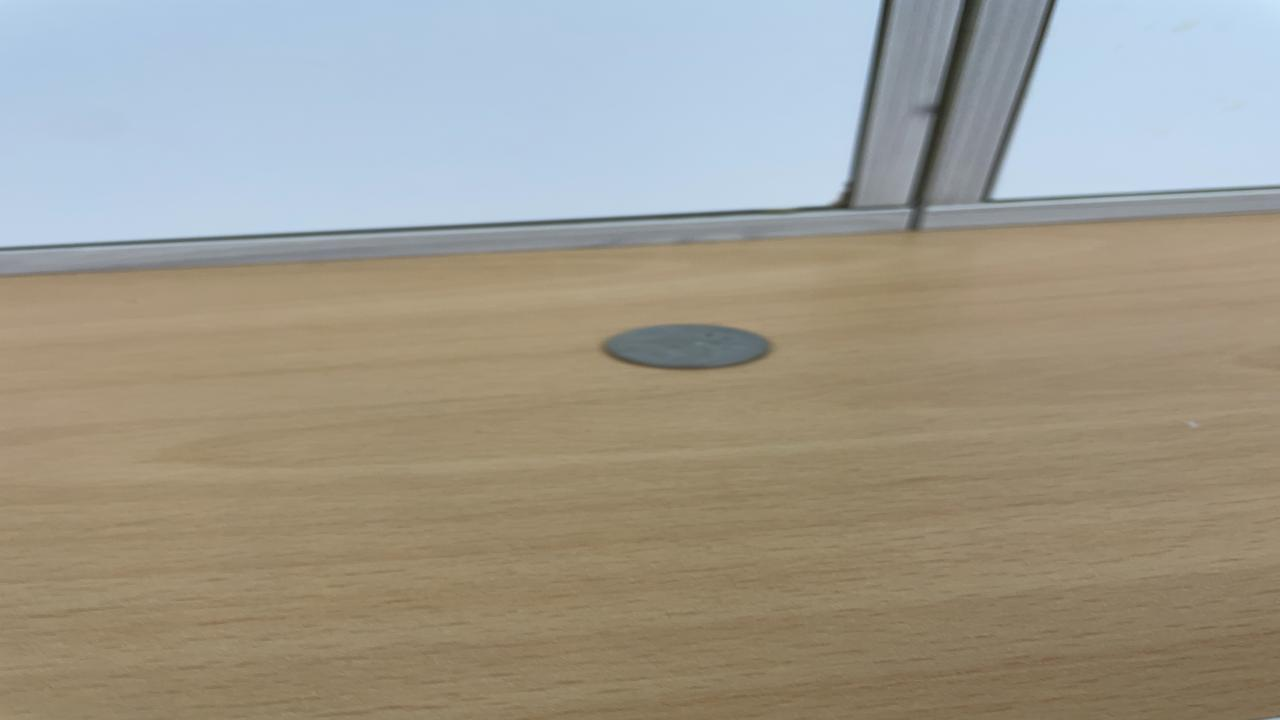coin: (596, 320, 781, 372)
